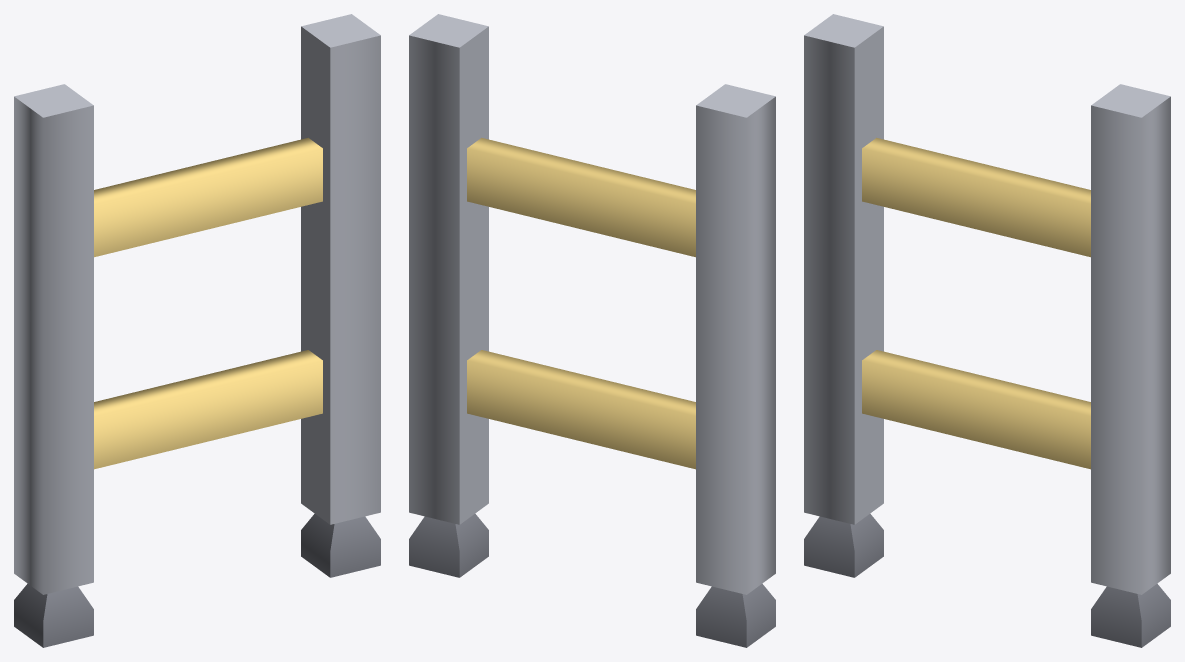
File: structure-yellow-high.fbx
3 views of the same model, side by side, from view 1: azimuth 30°, elevation 25°; view 2: azimuth 150°, elevation 25°; view 3: azimuth 330°, elevation 25° (orthographic).
Visible parts, largest first — view 1: structure-yellow-high; view 2: structure-yellow-high; view 3: structure-yellow-high.
Boxes of the visible parts, x1=… form: structure-yellow-high: x1=14, y1=14, x2=380, y2=647; structure-yellow-high: x1=409, y1=14, x2=775, y2=647; structure-yellow-high: x1=804, y1=14, x2=1170, y2=647.
Bounding box in the file's own units: 100 × 150 × 15.
